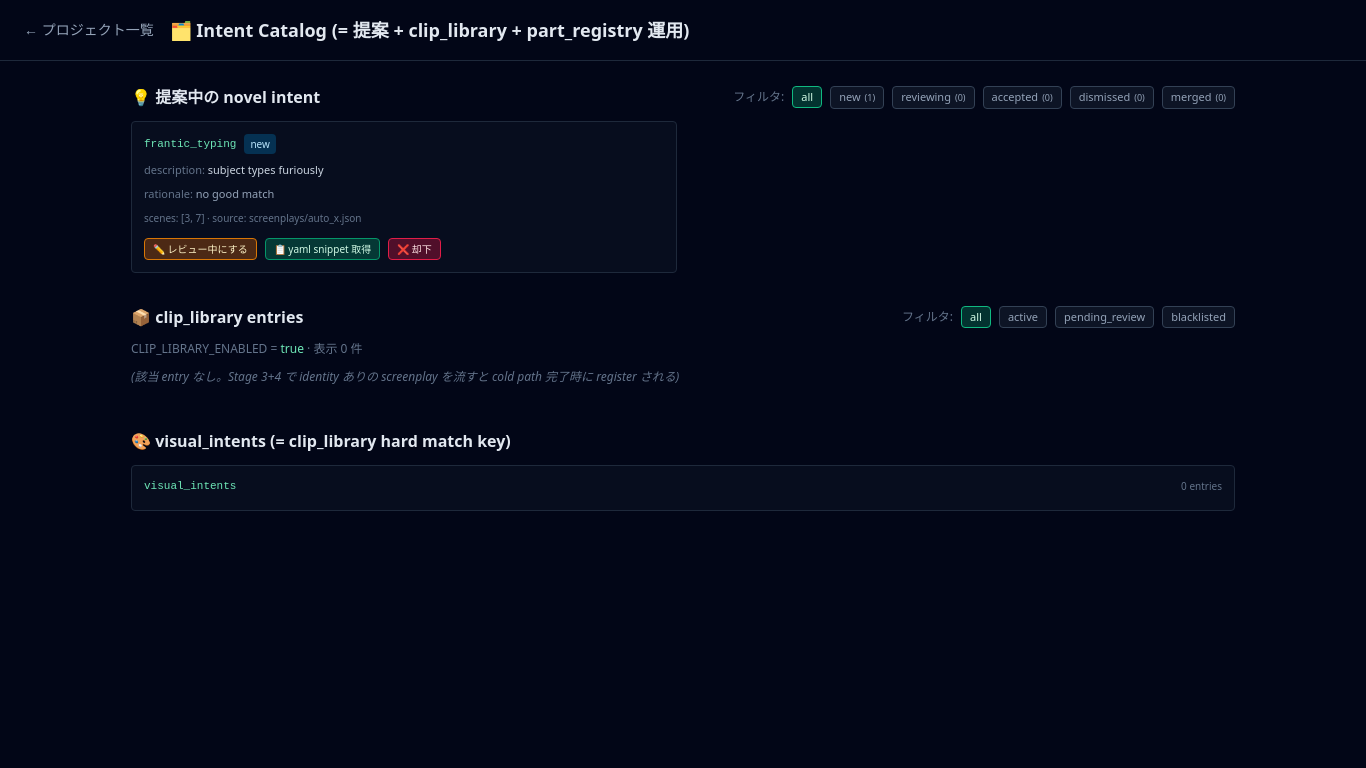
Test: IntentCatalogPage > IntentSuggestionsSection › yaml snippet 取得ボタンで accept API が呼ばれ clipboard にコピーされる
Click the button "📋 yaml snippet 取得" at (322,249), box [265,238,380,260]
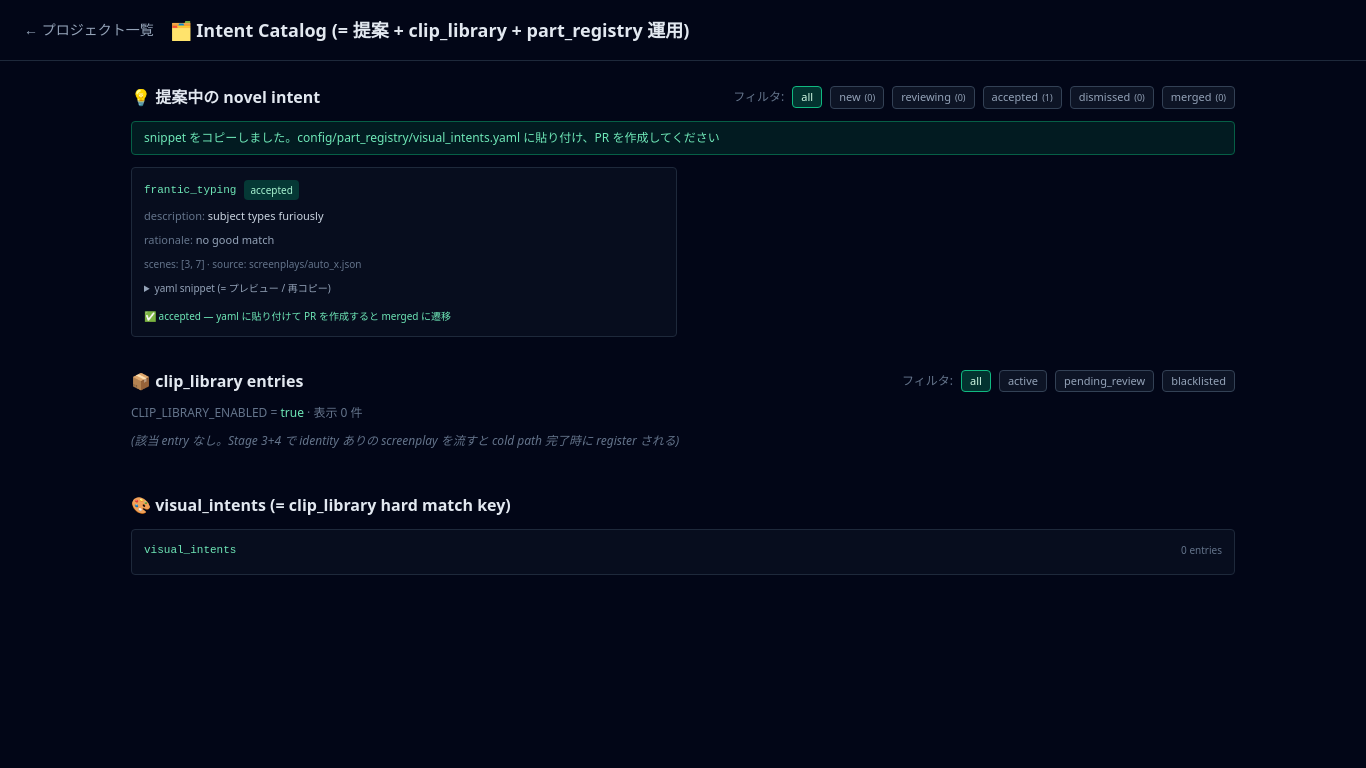
Expected: the text "snippet をコピーしました。config/part_registry/visual_intents.yaml に貼り付け、PR を作成してください" is shown, [131,121,1235,155]
